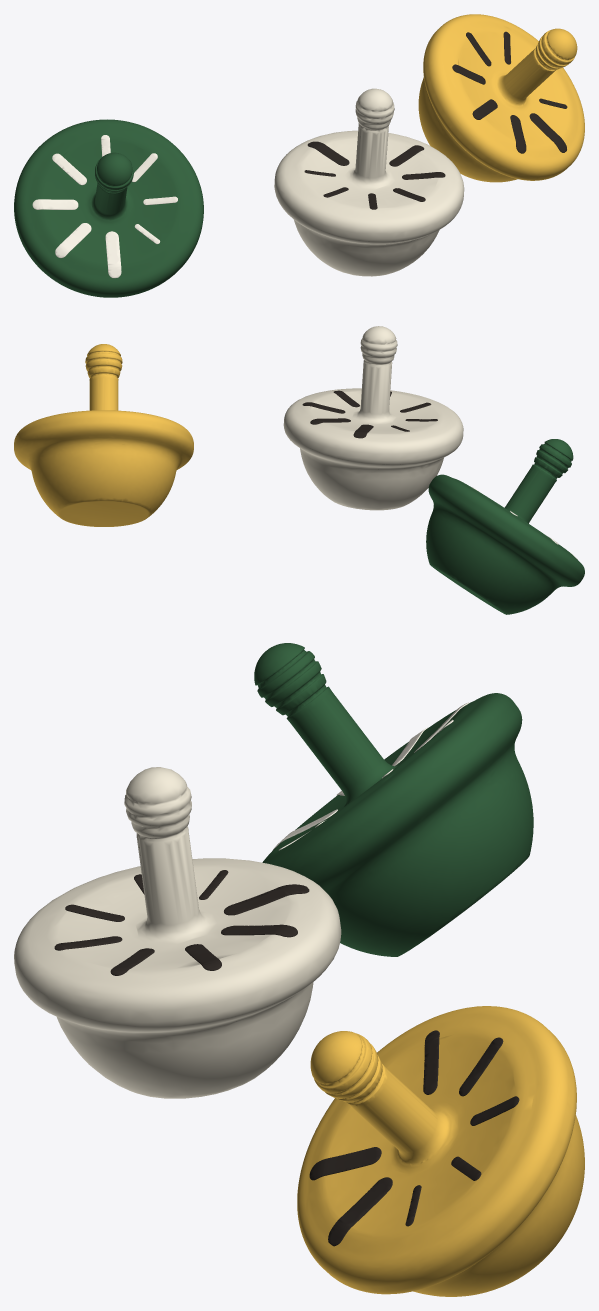
The model's file is loading.glb.
3 views of the same model, one above another, from view 1: azimuth 30°, elevation 25°; view 2: azimuth 150°, elevation 25°; view 3: azimuth 270°, elevation 25° (orthographic). The views are drawn at different scales.
Visible parts, largest first — view 1: top-body, top-bars; view 2: top-body, top-bars; view 3: top-body, top-bars.
Part boxes in pixels (x1,y1,x2,y2): top-body: (14,14,584,297); top-bars: (32,31,567,278); top-body: (14,326,584,614); top-bars: (302,390,577,559); top-body: (14,643,584,1296); top-bars: (54,702,519,1246).
Bounding box in the file's own units: 0.1867 × 0.0618 × 0.0939.
Materials: 2 (2 with a texture image).
